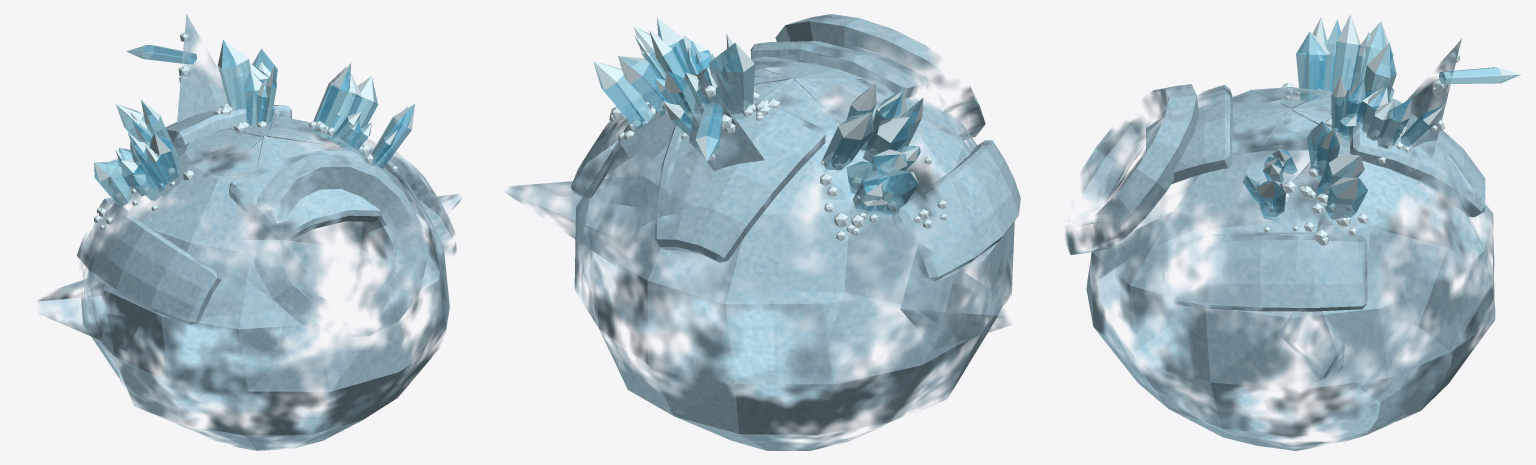
Rendered from shielded.glb.
The picture shows the model from 3 angles, left to right: view 1: azimuth 30°, elevation 25°; view 2: azimuth 150°, elevation 25°; view 3: azimuth 270°, elevation 25°; orthographic projection. The views are drawn at different scales.
Visible parts, largest first — view 1: FrostCoat, AttachedIce; view 2: FrostCoat, AttachedIce; view 3: FrostCoat, AttachedIce.
Boxes of the visible parts, box(x1,y1,x2,y2) form: FrostCoat: box(37, 14, 461, 450); AttachedIce: box(93, 32, 415, 230); FrostCoat: box(505, 14, 1020, 450); AttachedIce: box(593, 17, 946, 240); FrostCoat: box(1065, 39, 1495, 450); AttachedIce: box(1242, 14, 1520, 245).
Bounding box in the file's own units: 1.01 × 0.7542 × 0.8126.
4 materials, 1 textured.
